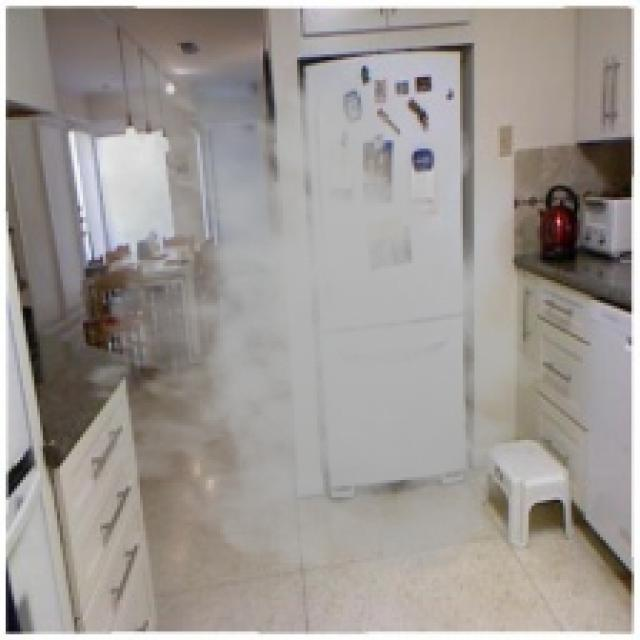smoke: (23, 26, 560, 577)
